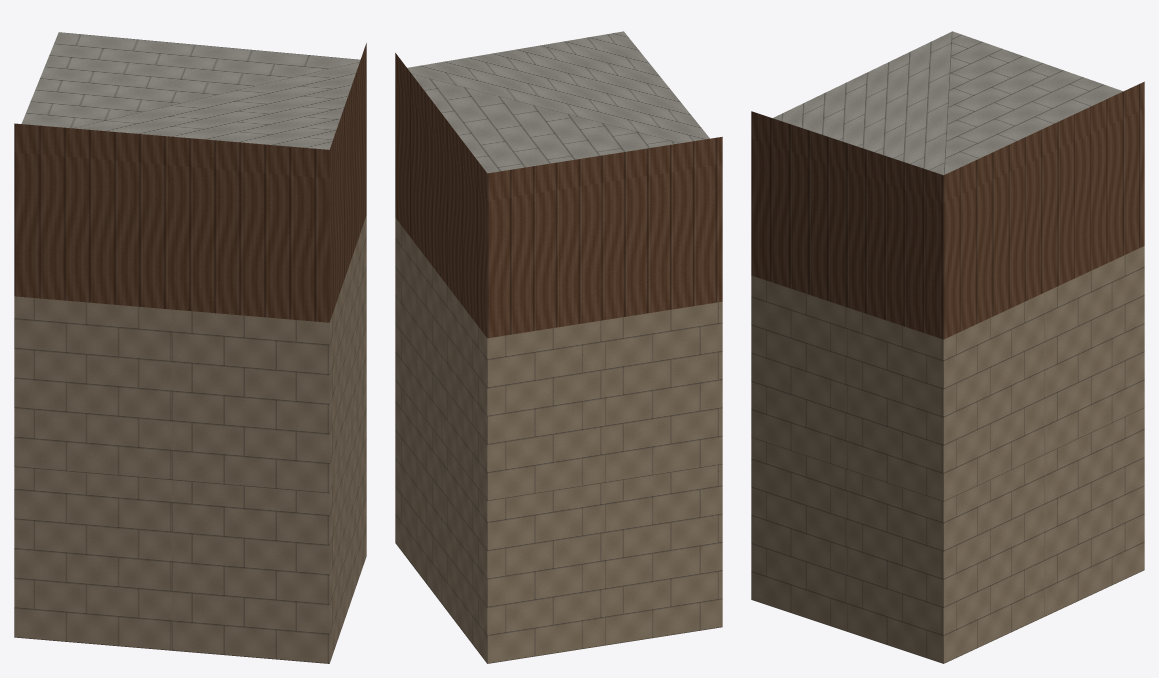
File: bld_c32_43_247.gltf
The picture shows the model from 3 angles, left to right: view 1: azimuth 30°, elevation 25°; view 2: azimuth 150°, elevation 25°; view 3: azimuth 270°, elevation 25°; orthographic projection. The views are drawn at different scales.
Visible parts, largest first — view 1: bld_c32_43_247; view 2: bld_c32_43_247; view 3: bld_c32_43_247.
Part boxes in pixels (left/top/right/bottom): bld_c32_43_247: left=14, top=32, right=366, bottom=663; bld_c32_43_247: left=395, top=31, right=722, bottom=663; bld_c32_43_247: left=751, top=31, right=1144, bottom=663.
Size of the model in its own units: 4.8 by 6.78 by 4.95.
Materials: 4 (4 with a texture image).
